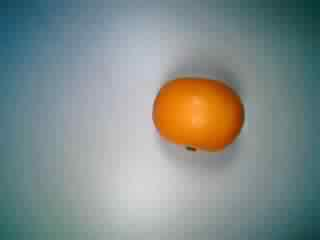orange: (152, 75, 247, 156)
